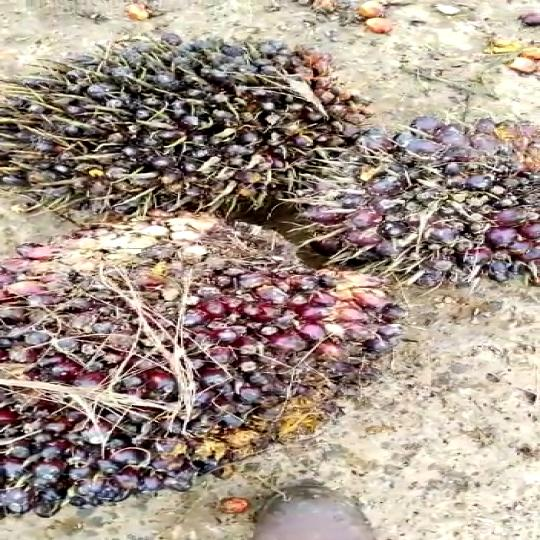kurang masak: (0, 208, 393, 520), (0, 25, 345, 231), (323, 113, 540, 309)
